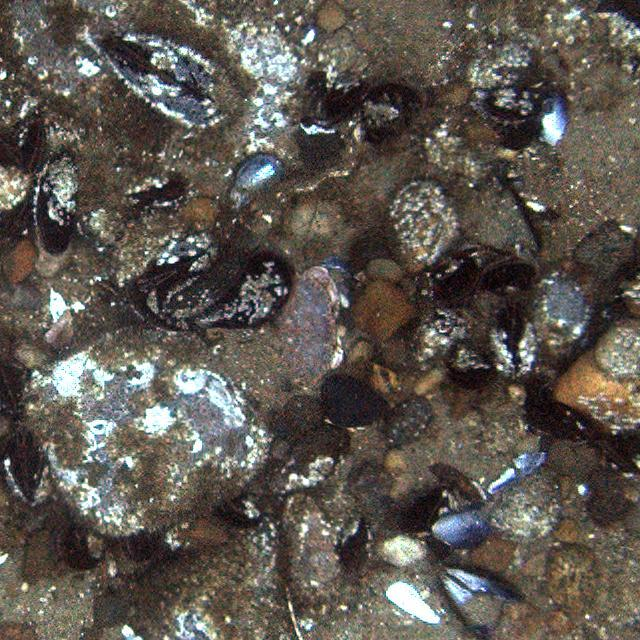crab: (280, 262, 348, 383)
